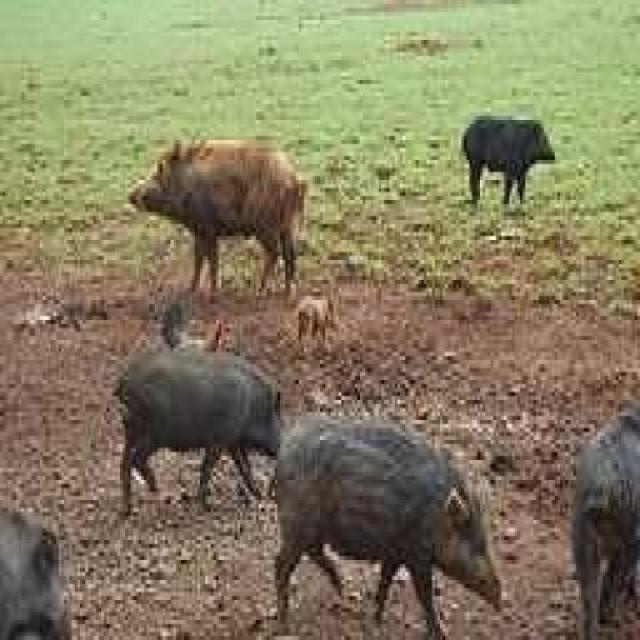pig: (249, 391, 520, 640), (107, 144, 326, 306), (110, 338, 289, 523), (444, 100, 562, 216)
